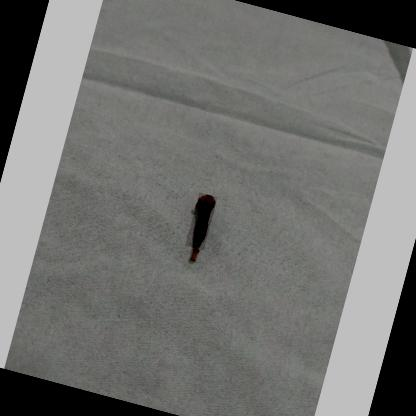sedang: (193, 195, 215, 249)
